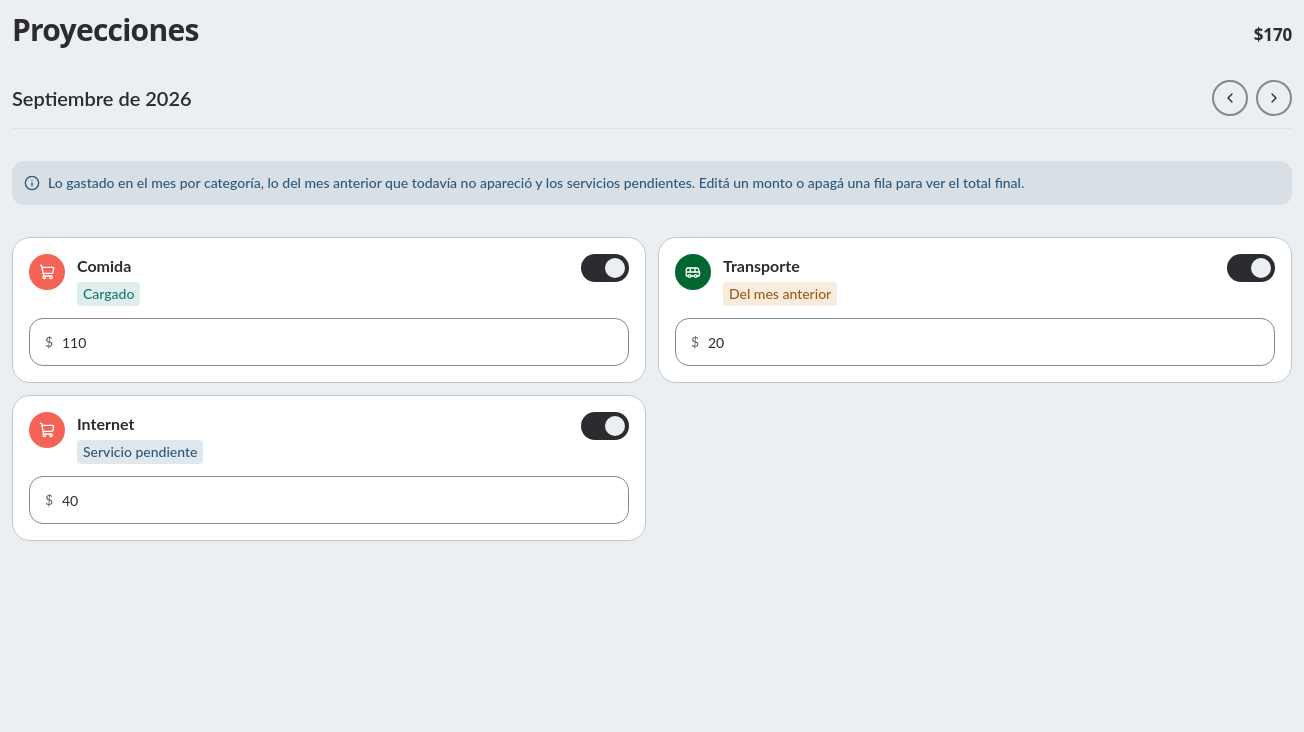
it: ProyeccionesPage › projects last month, keeps this month, and totals edited values
Expected: the text "Del mes anterior" is shown, [723,282,837,306]
Expected: the text "Cargado" is shown, [77,282,140,306]
Step 1. Replace the text in the field named "Monto de Transporte" with "50" → (975, 342), box [675,318,1275,366]
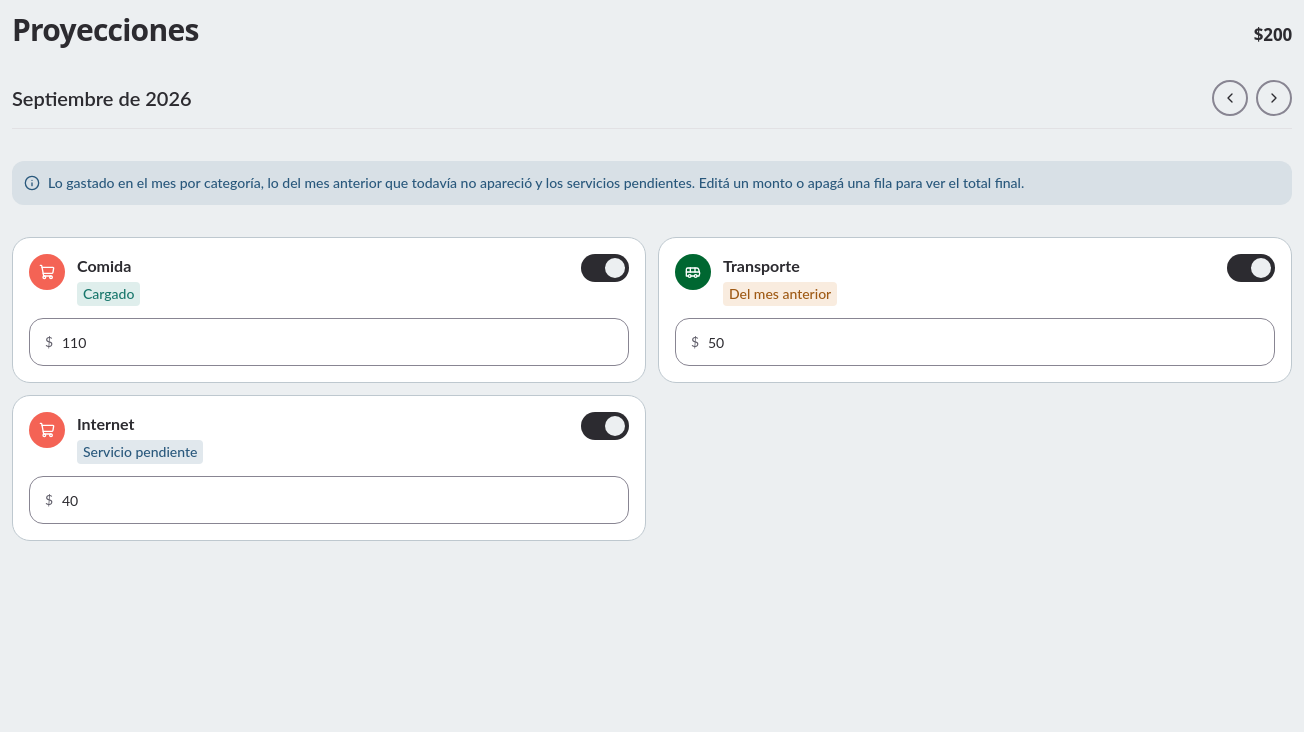
Expected: the text "$200" is shown, [1254,23,1292,46]
// Switching a row off drops it from the total.
Step 2. Click the switch named "Incluir Internet" → (605, 426), box [581,412,629,440]
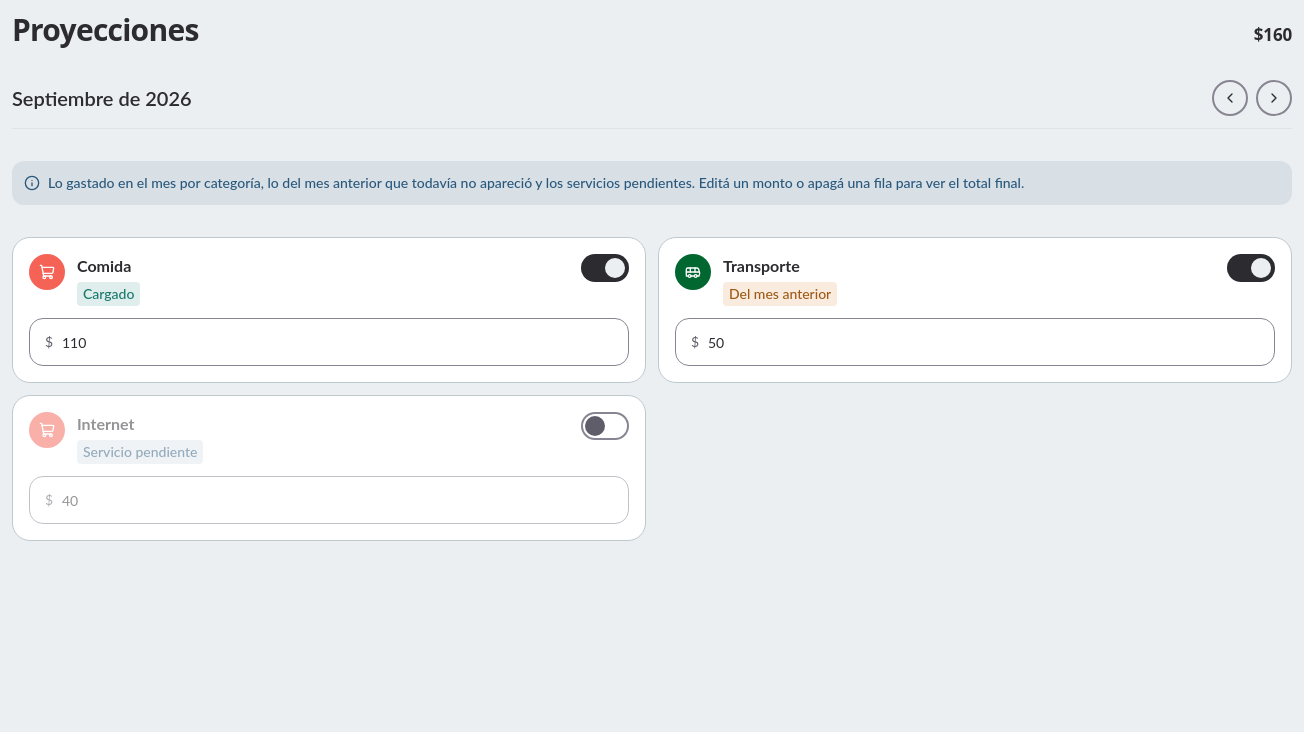
Expected: the text "$160" is shown, [1254,23,1292,46]
Step 3. Click the switch named "Incluir Internet" → (605, 426), box [581,412,629,440]
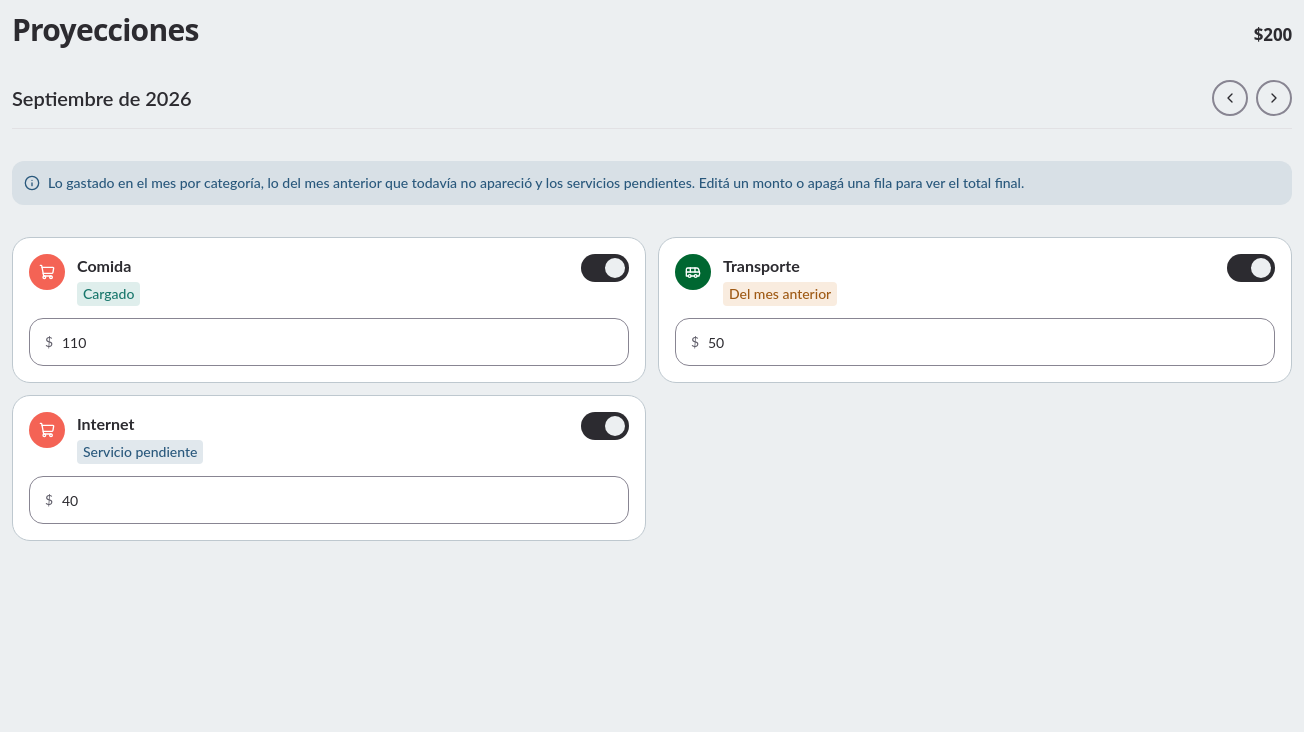
Expected: the text "$200" is shown, [1254,23,1292,46]
// Next month has nothing yet, so it carries over this month's categories.
Step 4. Click the button named "Mes siguiente" → (1274, 98), box [1256,80,1292,116]
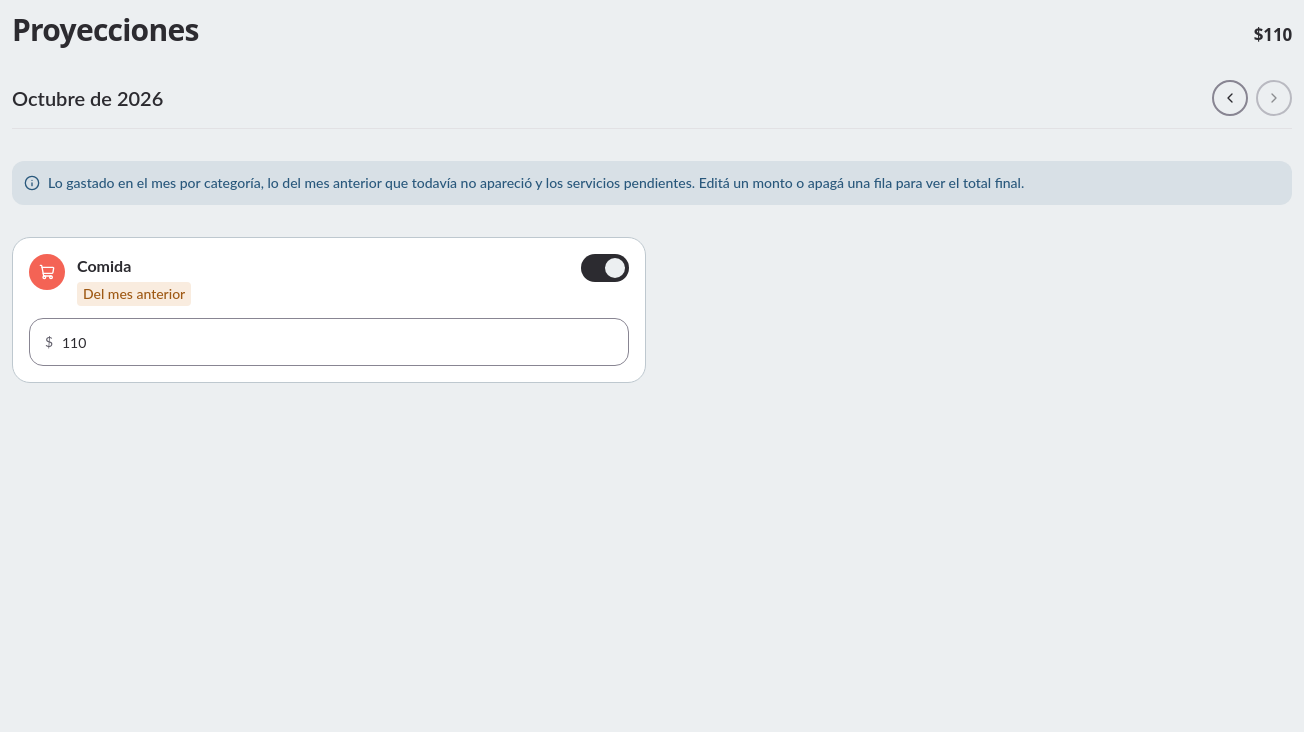
Expected: the text "$110" is shown, [1254,23,1292,46]
Expected: the text "Cargado" is gone
// Edits made on the first month are still there when paging back.
Step 5. Click the button named "Mes anterior" → (1230, 98), box [1212,80,1248,116]
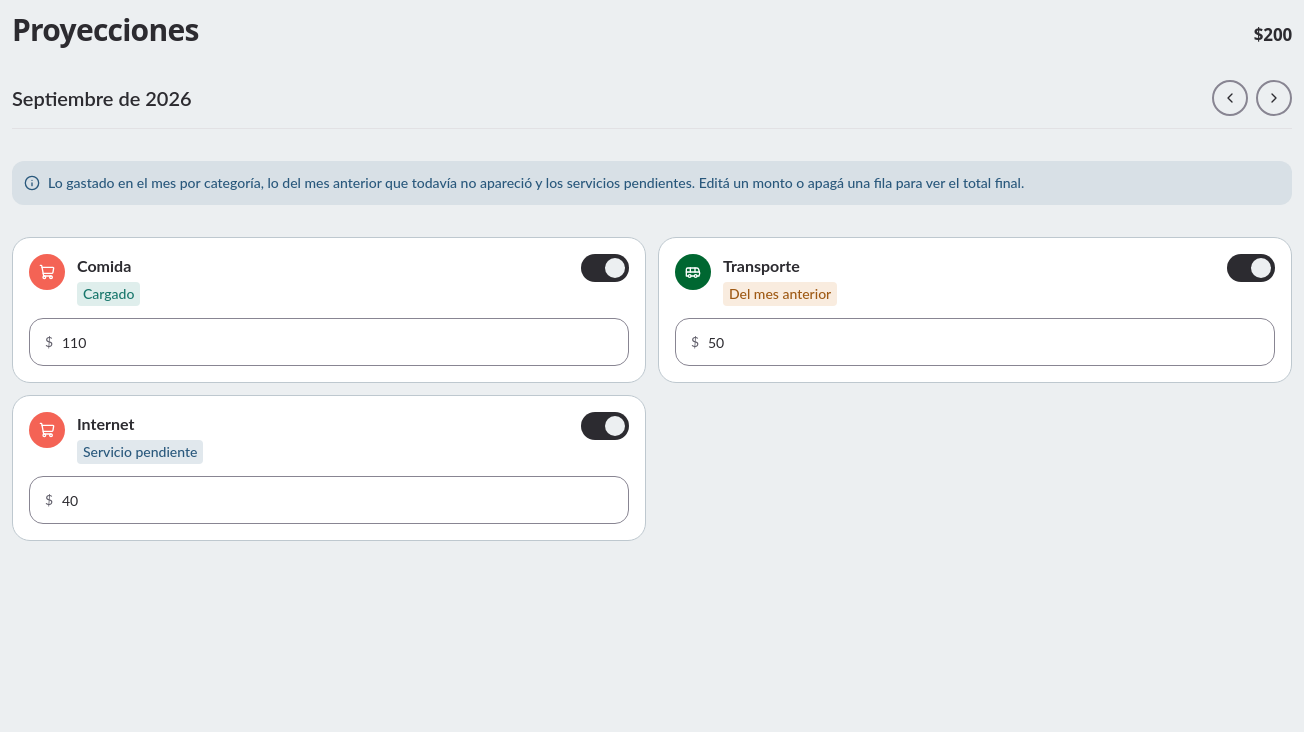
Expected: the text "$200" is shown, [1254,23,1292,46]
